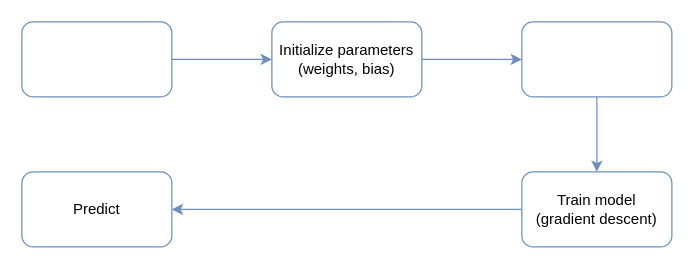
Image size: 694x269. Some labels were removed from this diagram. The centre of each missing label's shape, as x and y in pixels:
Convert inputs & targets to tensor: point (96, 59)
Define functions (hyothesis, cost): point (596, 59)
